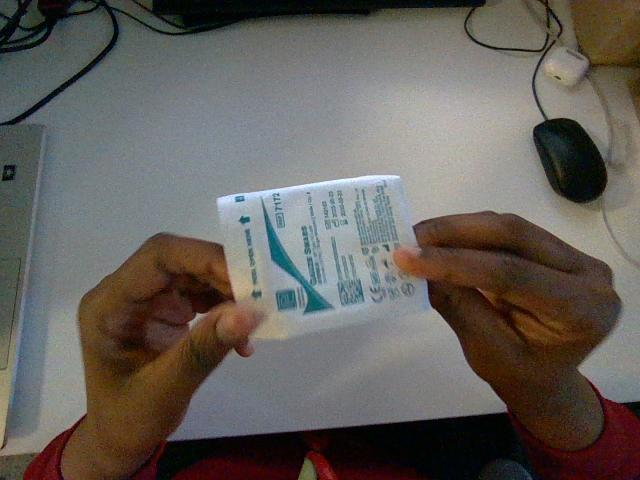gauze: (217, 176, 427, 338)
